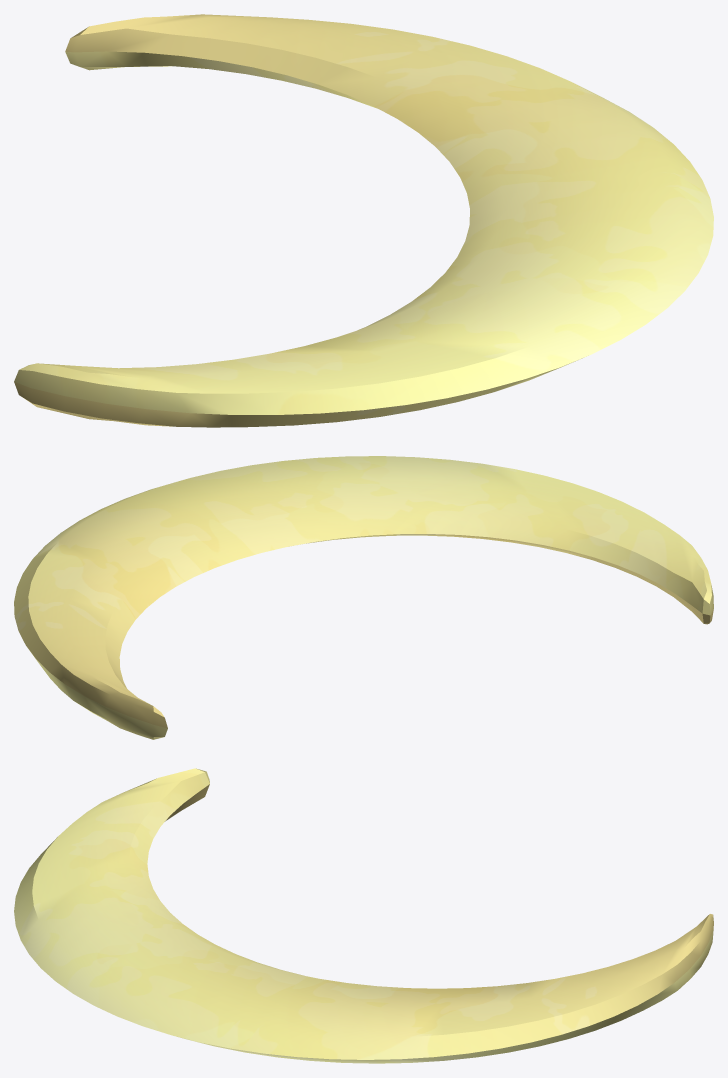
Rendered from CrescentMoonYellow.fbx.
The picture shows the model from 3 angles, top to bottom: view 1: azimuth 30°, elevation 25°; view 2: azimuth 150°, elevation 25°; view 3: azimuth 270°, elevation 25°; orthographic projection. The views are drawn at different scales.
Parts seen in each view (by area): view 1: MoonYellow; view 2: MoonYellow; view 3: MoonYellow.
Boxes of the visible parts, <box> form: MoonYellow: <box>14,14,713,427</box>; MoonYellow: <box>14,456,713,739</box>; MoonYellow: <box>14,768,713,1063</box>.
Size of the model in its own units: 295 by 17.74 by 312.
1 material, 1 textured.
